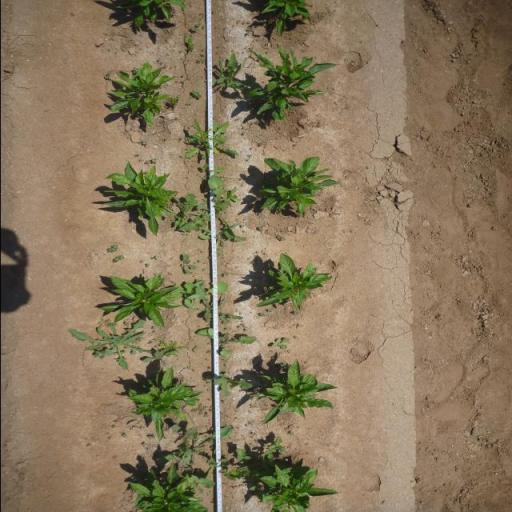plant: (243, 43, 339, 121), (252, 356, 339, 428), (100, 161, 177, 241), (124, 365, 205, 441), (256, 156, 343, 216), (255, 455, 341, 512), (253, 251, 334, 310), (105, 61, 177, 126), (98, 275, 180, 330), (123, 463, 209, 512), (256, 0, 316, 37), (110, 0, 186, 27)
weed: (66, 320, 156, 374), (151, 424, 235, 472), (231, 434, 287, 501), (177, 175, 231, 236), (188, 446, 241, 494), (180, 117, 241, 158), (182, 286, 244, 323), (195, 326, 258, 360), (195, 225, 249, 258), (210, 52, 254, 90), (212, 372, 254, 396), (173, 279, 231, 296), (170, 192, 197, 228), (140, 351, 178, 367), (200, 162, 230, 176), (160, 339, 184, 355), (179, 254, 197, 274), (270, 337, 290, 351), (94, 317, 117, 328), (192, 403, 208, 416), (225, 190, 238, 202), (188, 90, 202, 100), (112, 254, 126, 264), (186, 37, 194, 52), (91, 350, 105, 358), (106, 244, 118, 253), (103, 72, 114, 80), (275, 234, 286, 242), (195, 277, 204, 285), (188, 25, 198, 32), (138, 139, 148, 146), (197, 154, 207, 161), (169, 98, 177, 106), (190, 346, 198, 354), (278, 362, 286, 370), (256, 226, 264, 232), (149, 255, 158, 260), (131, 66, 138, 72), (258, 312, 265, 318), (265, 308, 272, 314), (202, 412, 209, 418), (140, 442, 146, 448), (150, 158, 157, 163), (196, 59, 206, 62), (257, 142, 262, 148), (295, 324, 301, 329), (121, 432, 126, 438), (143, 160, 150, 164), (288, 432, 295, 436), (143, 264, 149, 268), (206, 350, 212, 354), (147, 436, 155, 438), (292, 312, 298, 314)
